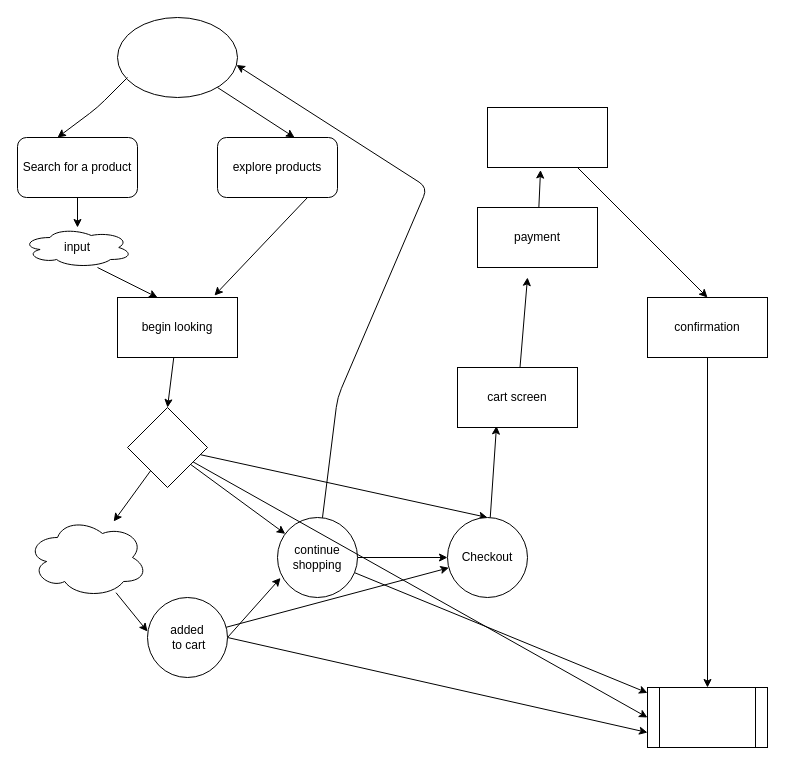
The diagram is 785 pixels wide and 765 high, and some of its shapes have lost their labels. The box of each missing label's shape, as (x1, y1, x2, y2) in pixels:
cart confirmation: (26, 516, 148, 598)
Enter Website: (116, 16, 238, 98)
Leave website: (646, 686, 768, 748)
payment info: (486, 106, 608, 168)
view specific product: (126, 406, 208, 488)
